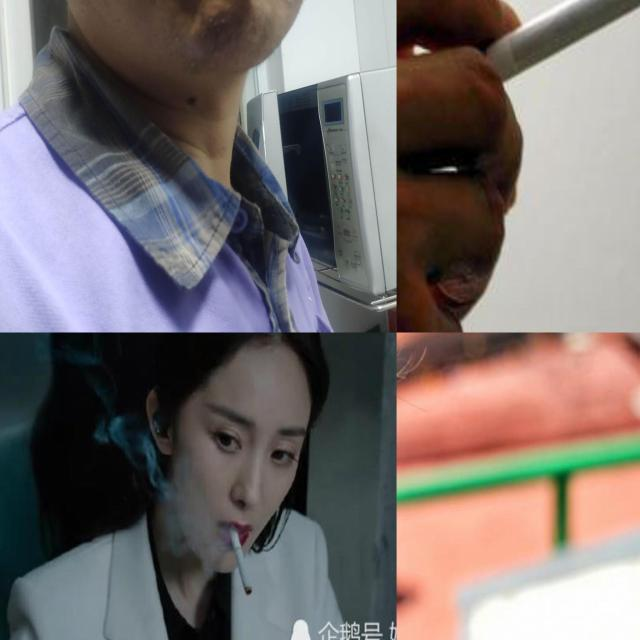cigarette: (452, 0, 640, 101), (226, 522, 256, 598)
